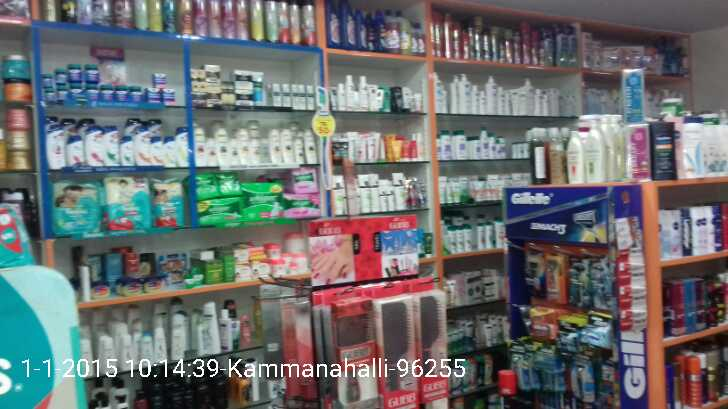beauty: (46, 124, 65, 171), (83, 126, 103, 165), (214, 125, 231, 164), (133, 126, 150, 165), (64, 134, 84, 167), (101, 125, 117, 166), (280, 125, 296, 163), (173, 126, 188, 166), (248, 117, 260, 163), (192, 126, 206, 165), (269, 127, 283, 162), (162, 135, 177, 167), (234, 127, 247, 163), (304, 127, 316, 165), (118, 137, 133, 167), (149, 137, 163, 167), (203, 85, 222, 105), (253, 71, 264, 105), (236, 88, 255, 107), (233, 71, 253, 88), (205, 64, 220, 83), (298, 83, 308, 110), (280, 83, 291, 106), (307, 83, 316, 110), (291, 83, 300, 110), (270, 83, 281, 105)
pharmacy: (99, 174, 150, 232), (52, 178, 98, 231), (237, 183, 283, 219), (152, 184, 186, 226), (198, 199, 239, 224), (283, 194, 320, 220), (216, 169, 244, 196), (293, 168, 320, 195), (193, 176, 215, 197), (98, 82, 116, 101), (66, 62, 82, 83), (85, 62, 99, 85), (52, 65, 66, 88), (114, 81, 130, 101), (128, 84, 144, 102), (161, 87, 176, 105), (154, 73, 167, 90)
